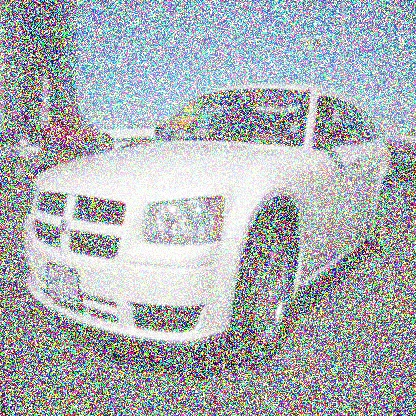Vehicle: (22, 82, 398, 370)
